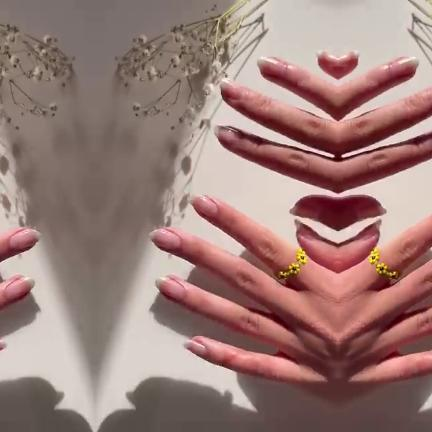Nail: (154, 276, 184, 299), (4, 276, 34, 299), (148, 229, 180, 250), (8, 229, 40, 250), (189, 195, 217, 217), (256, 55, 285, 76), (389, 55, 418, 76), (293, 219, 319, 240), (355, 219, 381, 240), (213, 125, 239, 144), (221, 81, 245, 99), (289, 205, 316, 218), (358, 205, 385, 218), (184, 340, 205, 355), (316, 50, 336, 65), (338, 50, 358, 65), (0, 341, 4, 350), (429, 88, 432, 98)
